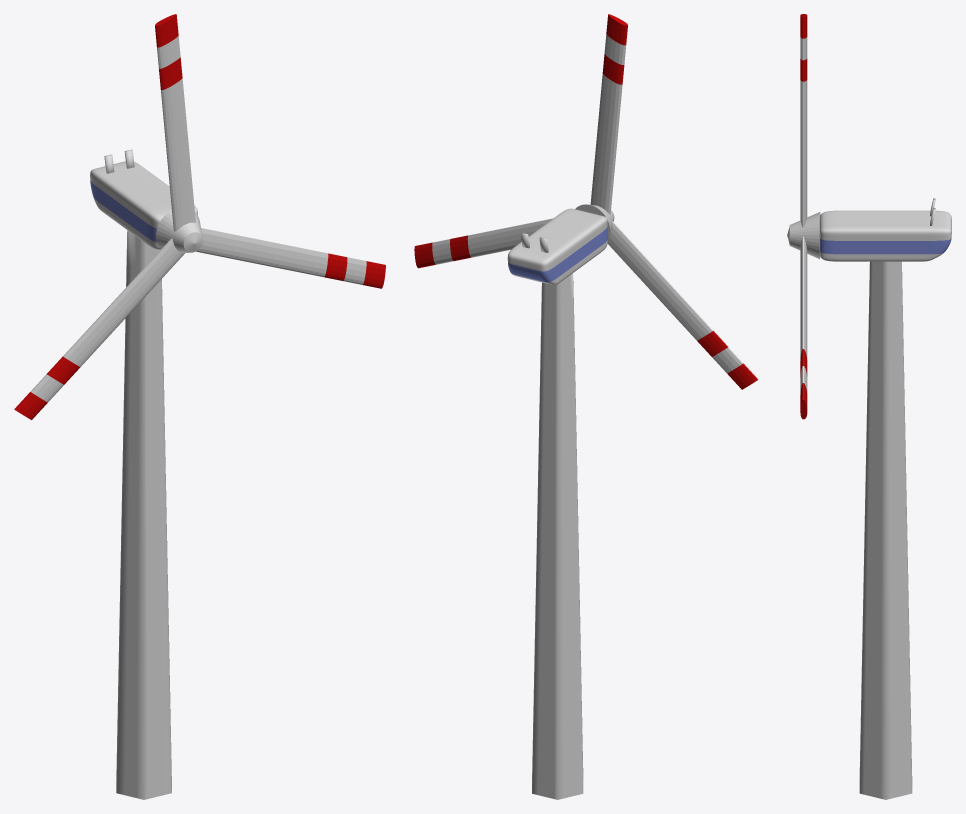
The model's file is tubirne.fbx.
The picture shows the model from 3 angles, left to right: view 1: azimuth 30°, elevation 25°; view 2: azimuth 150°, elevation 25°; view 3: azimuth 270°, elevation 25°; orthographic projection. The views are drawn at different scales.
Visible parts, largest first — view 1: Mast, Propeller; view 2: Mast, Propeller; view 3: Mast, Propeller.
Boxes of the visible parts, x1,y1,x2,y2 form: Mast: [90, 149, 197, 799]; Propeller: [14, 14, 385, 419]; Mast: [507, 208, 607, 799]; Propeller: [414, 14, 758, 389]; Mast: [820, 198, 951, 799]; Propeller: [787, 14, 820, 419].
Size of the model in its own units: 1409 by 2928 by 571.
